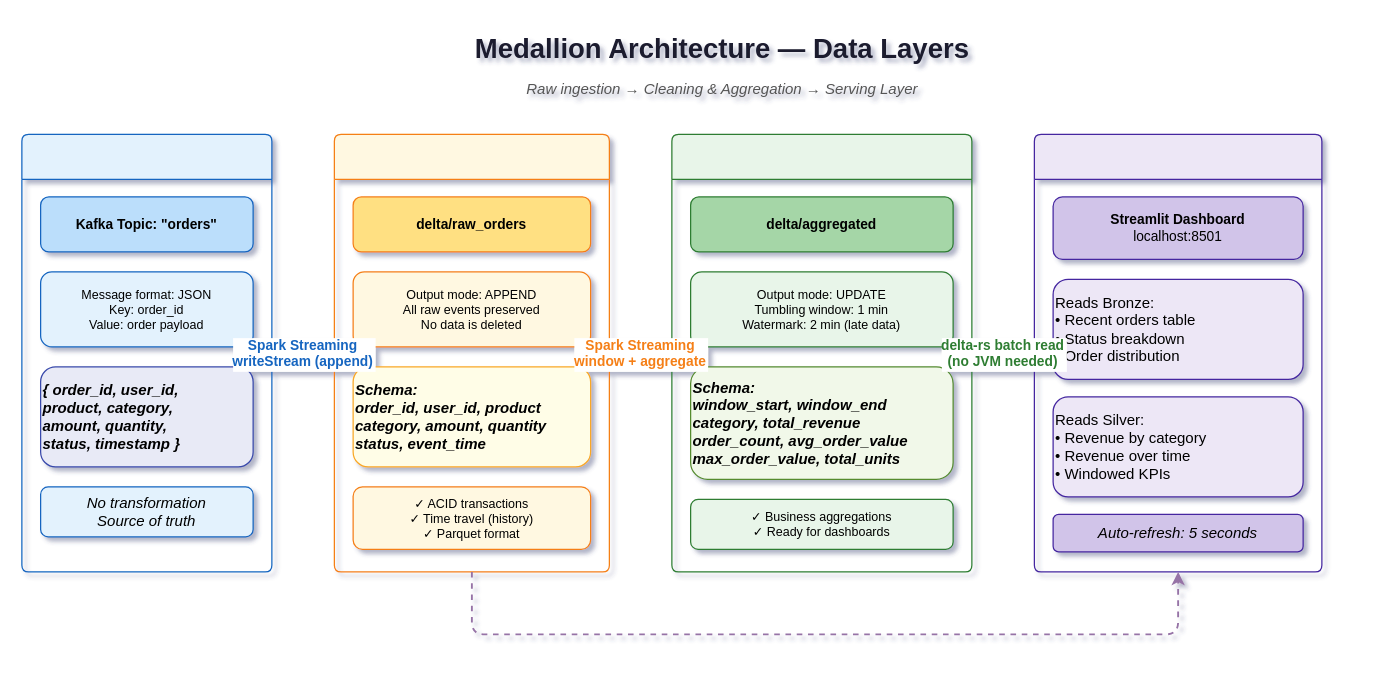
This 1376x674 diagram has some shape labels left out. The shapes that lost their labels are listed below. From the top down, each one's box as (x1, y1, x2, y2) in pixels, then its label:
(21, 133, 272, 572): INGESTION
(333, 133, 609, 572): 🥉 BRONZE LAYER
(671, 133, 972, 572): 🥈 SILVER LAYER
(1033, 133, 1322, 572): SERVING LAYER
